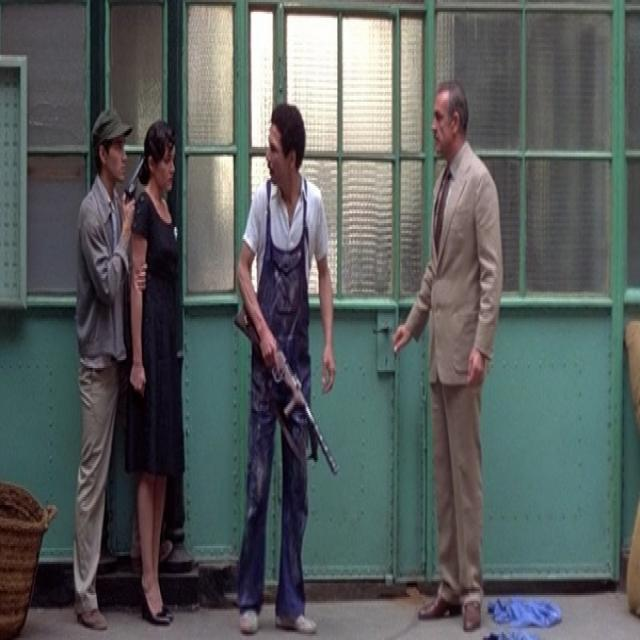rifle: (234, 305, 345, 485)
